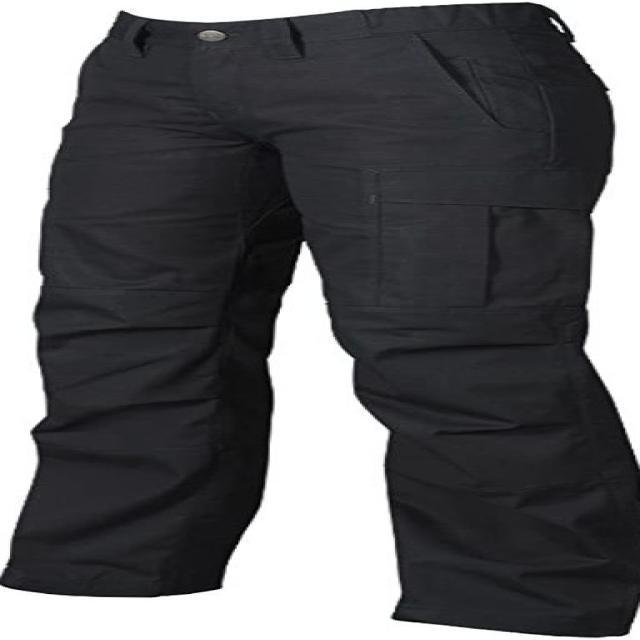pants: (0, 0, 635, 634)
